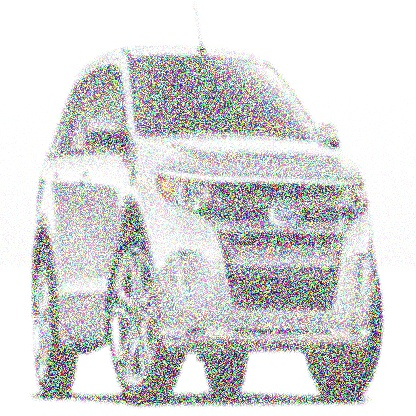Vehicle: (32, 48, 387, 406)
